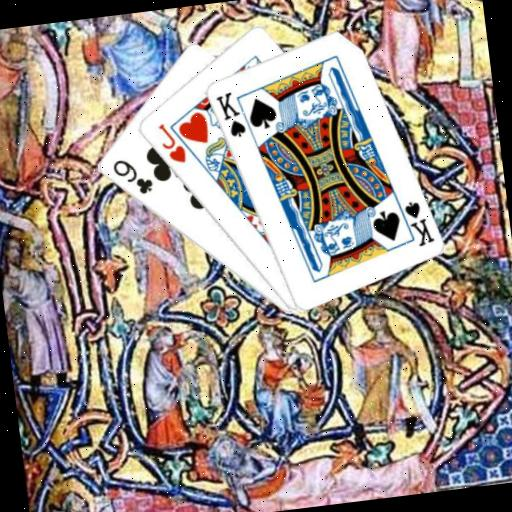9C: (108, 153, 155, 200)
JH: (154, 118, 188, 167)
KS: (393, 195, 436, 251), (212, 87, 248, 141)
